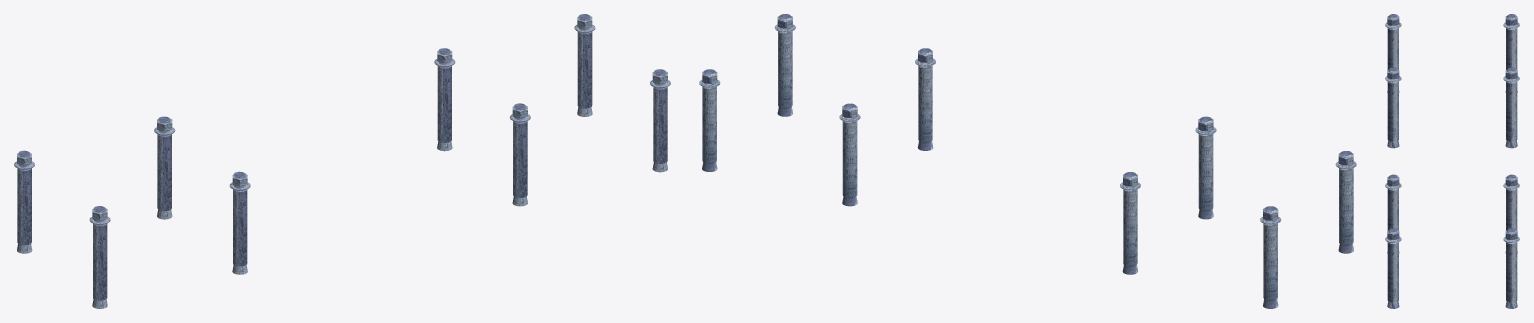
File: Dynabolts-washers-nuts-final.glb
The picture shows the model from 3 angles, left to right: view 1: azimuth 30°, elevation 25°; view 2: azimuth 150°, elevation 25°; view 3: azimuth 270°, elevation 25°; orthographic projection. The views are drawn at different scales.
Visible parts, largest first — view 1: Dynabolt-washer-nut.003, Dynabolt-washer-nut.007, Dynabolt-washer-nut.001, Dynabolt-washer-nut.005, Dynabolt-washer-nut.002, Dynabolt-washer-nut.004, Dynabolt-washer-nut.006, Dynabolt-washer-nut.008; view 2: Dynabolt-washer-nut.004, Dynabolt-washer-nut.005, Dynabolt-washer-nut.003, Dynabolt-washer-nut.008, Dynabolt-washer-nut.001, Dynabolt-washer-nut.006, Dynabolt-washer-nut.002, Dynabolt-washer-nut.007; view 3: Dynabolt-washer-nut.005, Dynabolt-washer-nut.007, Dynabolt-washer-nut.001, Dynabolt-washer-nut.003, Dynabolt-washer-nut.002, Dynabolt-washer-nut.004, Dynabolt-washer-nut.008, Dynabolt-washer-nut.006.
Part boxes in pixels (x1,y1,x2,y2): Dynabolt-washer-nut.003: (574, 14, 595, 116); Dynabolt-washer-nut.007: (154, 116, 175, 219); Dynabolt-washer-nut.001: (650, 69, 670, 172); Dynabolt-washer-nut.005: (229, 171, 250, 274); Dynabolt-washer-nut.002: (509, 103, 530, 206); Dynabolt-washer-nut.004: (434, 48, 455, 151); Dynabolt-washer-nut.006: (89, 206, 110, 308); Dynabolt-washer-nut.008: (14, 150, 34, 253); Dynabolt-washer-nut.004: (839, 103, 860, 206); Dynabolt-washer-nut.005: (1195, 116, 1216, 219); Dynabolt-washer-nut.003: (699, 69, 720, 171); Dynabolt-washer-nut.008: (1260, 206, 1281, 308); Dynabolt-washer-nut.001: (774, 14, 795, 116); Dynabolt-washer-nut.006: (1335, 151, 1356, 253); Dynabolt-washer-nut.002: (915, 48, 935, 150); Dynabolt-washer-nut.007: (1120, 172, 1140, 274); Dynabolt-washer-nut.005: (1385, 67, 1401, 148); Dynabolt-washer-nut.007: (1503, 67, 1519, 148); Dynabolt-washer-nut.001: (1385, 228, 1401, 308); Dynabolt-washer-nut.003: (1503, 228, 1519, 308); Dynabolt-washer-nut.002: (1385, 174, 1401, 253); Dynabolt-washer-nut.004: (1503, 174, 1519, 253); Dynabolt-washer-nut.008: (1503, 14, 1519, 92); Dynabolt-washer-nut.006: (1385, 14, 1401, 92).
Size of the model in its own units: 0.6195 by 0.0996 by 0.1595.
Materials: 1 (1 with a texture image).
